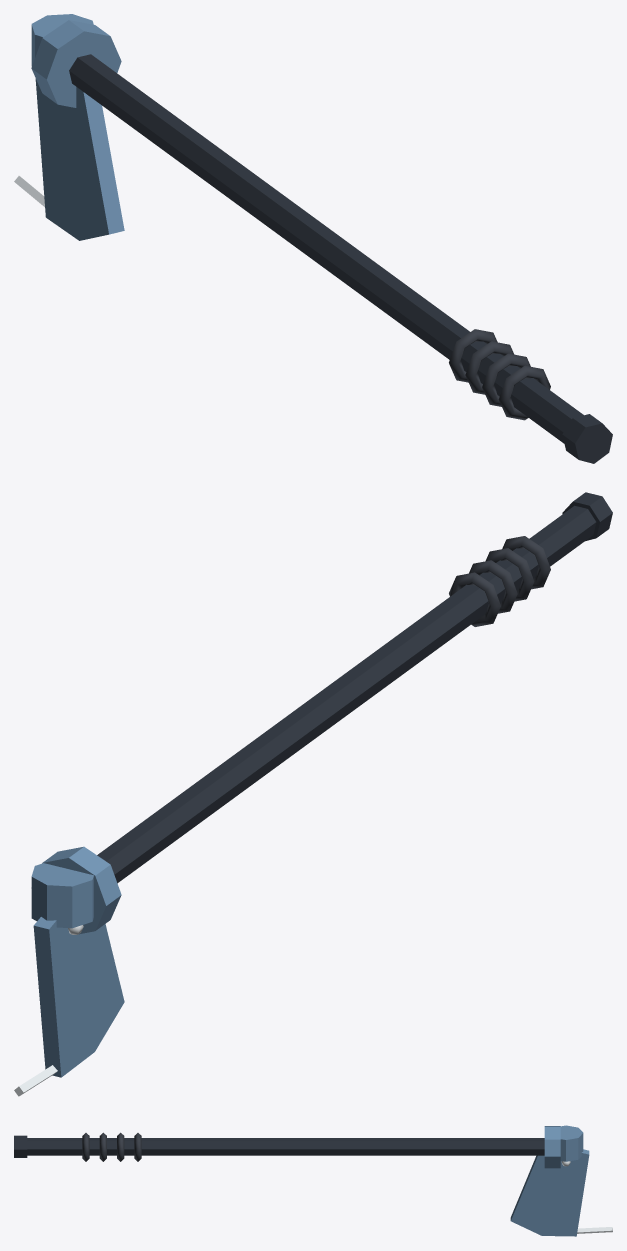
The model's file is Tool_Hoe_Titanium.fbx.
The picture shows the model from 3 angles, top to bottom: view 1: azimuth 30°, elevation 25°; view 2: azimuth 150°, elevation 25°; view 3: azimuth 270°, elevation 25°; orthographic projection. The views are drawn at different scales.
Visible parts, largest first — view 1: Tool_Hoe_Titanium; view 2: Tool_Hoe_Titanium; view 3: Tool_Hoe_Titanium.
Part boxes in pixels (<box>): Tool_Hoe_Titanium: <box>14,14,612,463</box>; Tool_Hoe_Titanium: <box>14,492,612,1096</box>; Tool_Hoe_Titanium: <box>14,1125,612,1236</box>.
Bounding box in the file's own units: 3.38 × 8.91 × 44.91.
